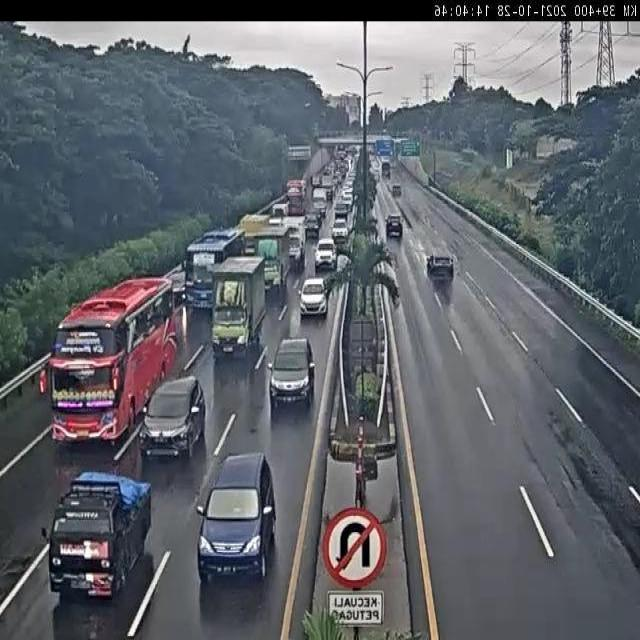Bus: (38, 278, 174, 441), (181, 228, 246, 310), (286, 179, 306, 216)
Car: (195, 448, 278, 586), (139, 374, 206, 460), (268, 337, 316, 414), (298, 275, 328, 316), (424, 253, 456, 280), (314, 238, 337, 272), (332, 216, 349, 247), (386, 216, 403, 238), (340, 188, 354, 209)
Truck: (39, 472, 154, 602), (208, 253, 268, 364), (255, 226, 292, 290), (281, 215, 308, 280), (312, 188, 328, 217)
